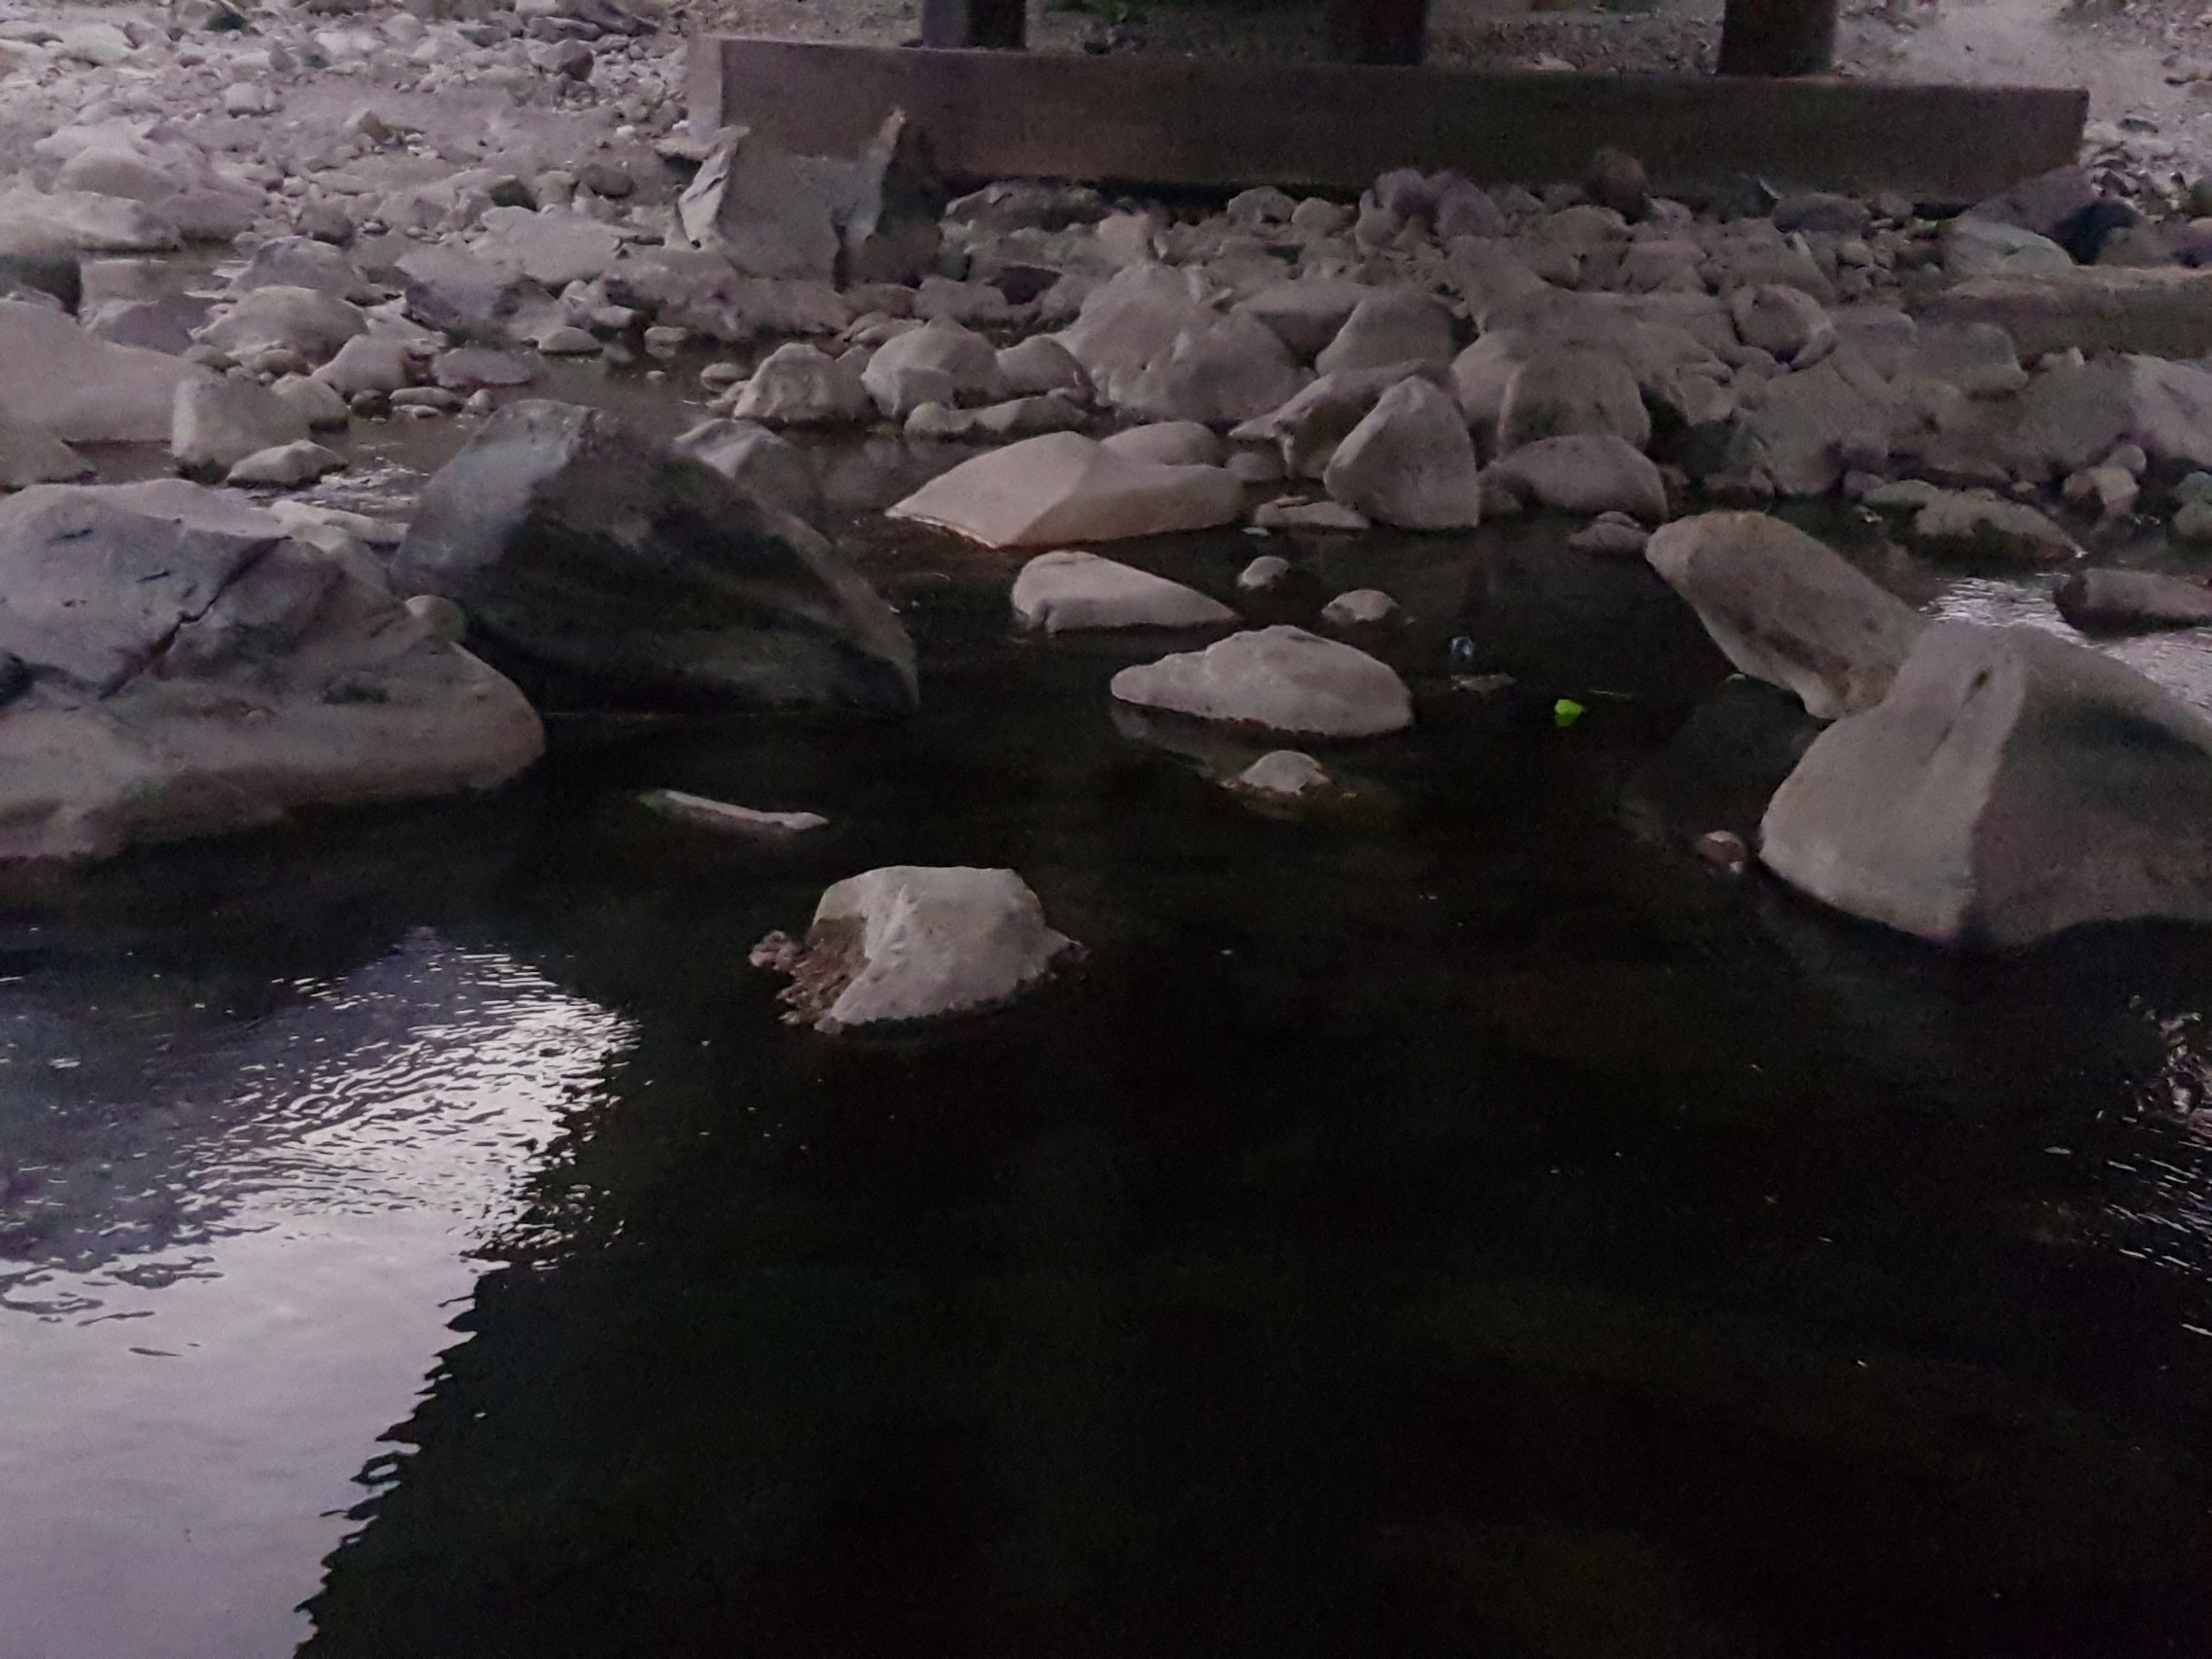Plastic Bottle: (1554, 697, 1583, 714), (1451, 636, 1474, 655)
